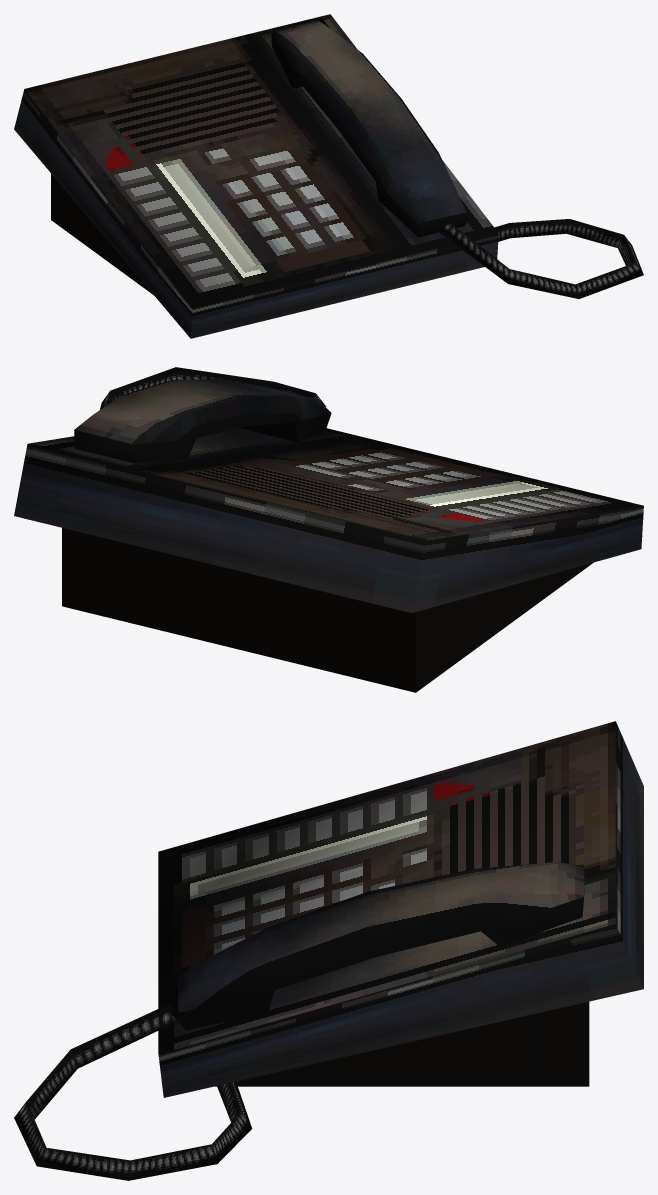
Rendered from blk_speakerphone.fbx.
3 renders of one model, top to bottom at view 1: azimuth 30°, elevation 25°; view 2: azimuth 150°, elevation 25°; view 3: azimuth 270°, elevation 25°, orthographic. The views are drawn at different scales.
Visible parts, largest first — view 1: mesh_0; view 2: mesh_0; view 3: mesh_0.
Boxes of the visible parts, x1=… form: mesh_0: x1=14, y1=14, x2=643, y2=338; mesh_0: x1=14, y1=367, x2=643, y2=692; mesh_0: x1=14, y1=721, x2=643, y2=1180.
Size of the model in its own units: 27.99 by 8.95 by 26.24.
Materials: 1 (1 with a texture image).
